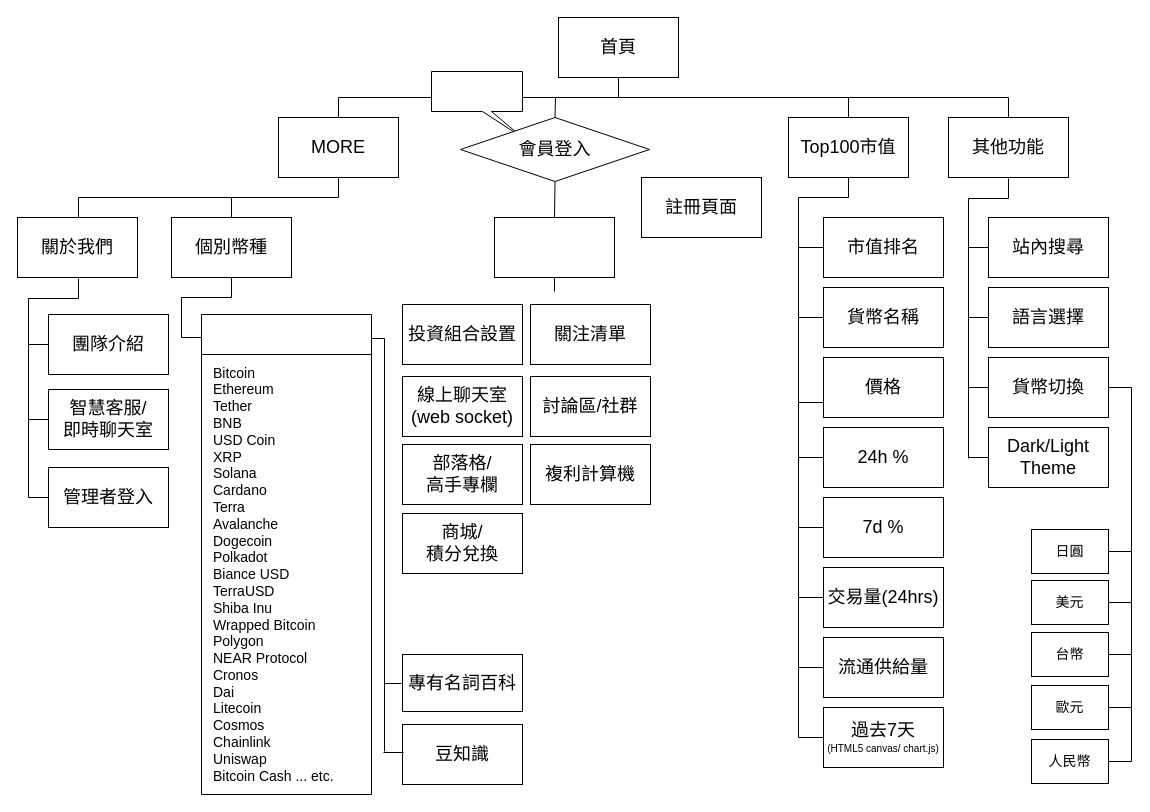
Some shapes in this 1150 by 812 pixel diagram are drawn without their labels. Here are the shapes that lost their labels. From the top down, the box of each, then its label:
(430, 70, 522, 138): 升級 Premium 獲得豪華版功能 (金流API)
(494, 216, 614, 278): 登入成功
(200, 314, 372, 794): 百大貨幣詳細資訊 & 討論區
